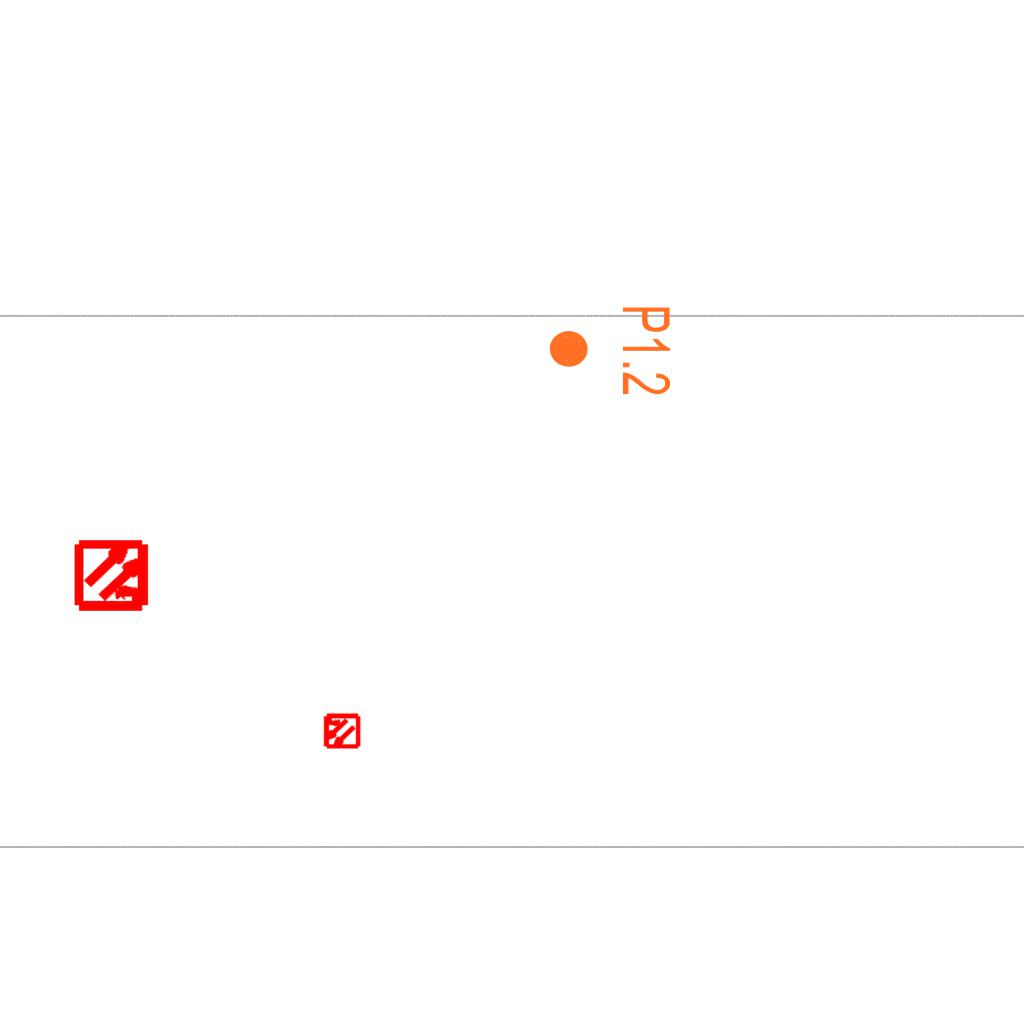Downlight_LED_Einbauleuchten_Flur: (546, 304, 674, 397)
OT_Multisensormelder_(Kombination_RMO_WMD): (57, 519, 170, 632), (313, 703, 369, 759)
